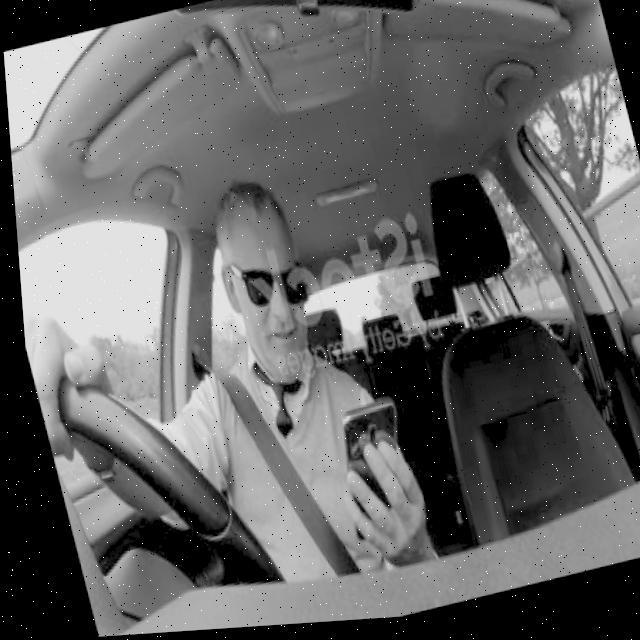PhoneCall: (316, 396, 420, 552)
